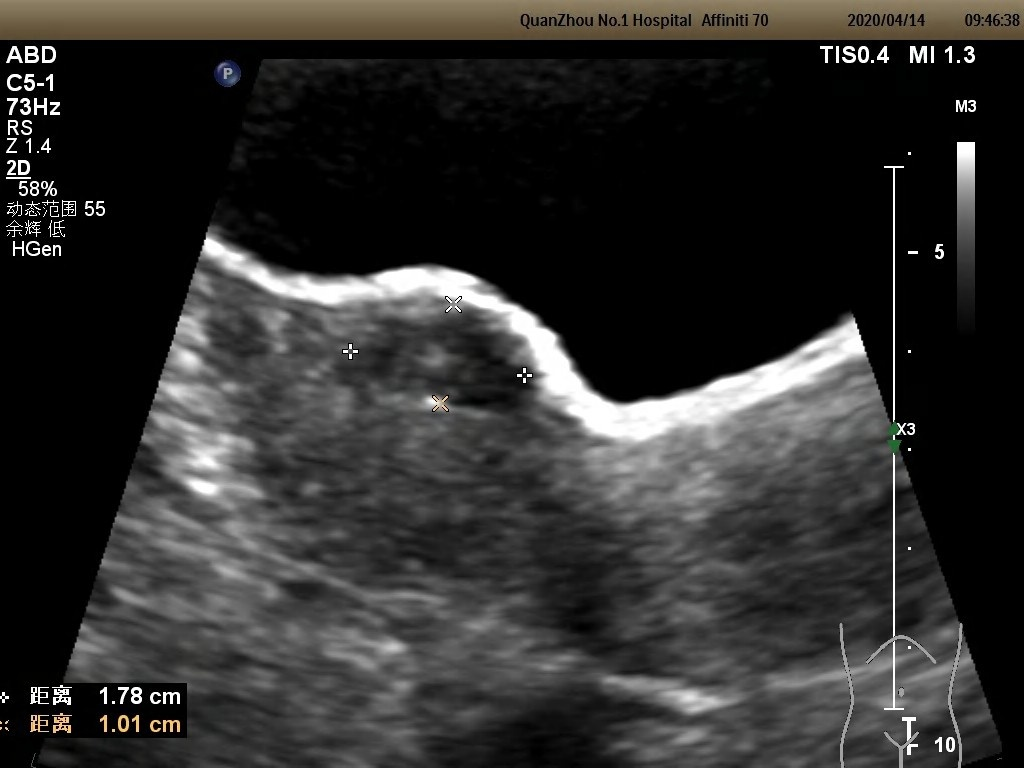肌瘤: (367, 317, 517, 411)
